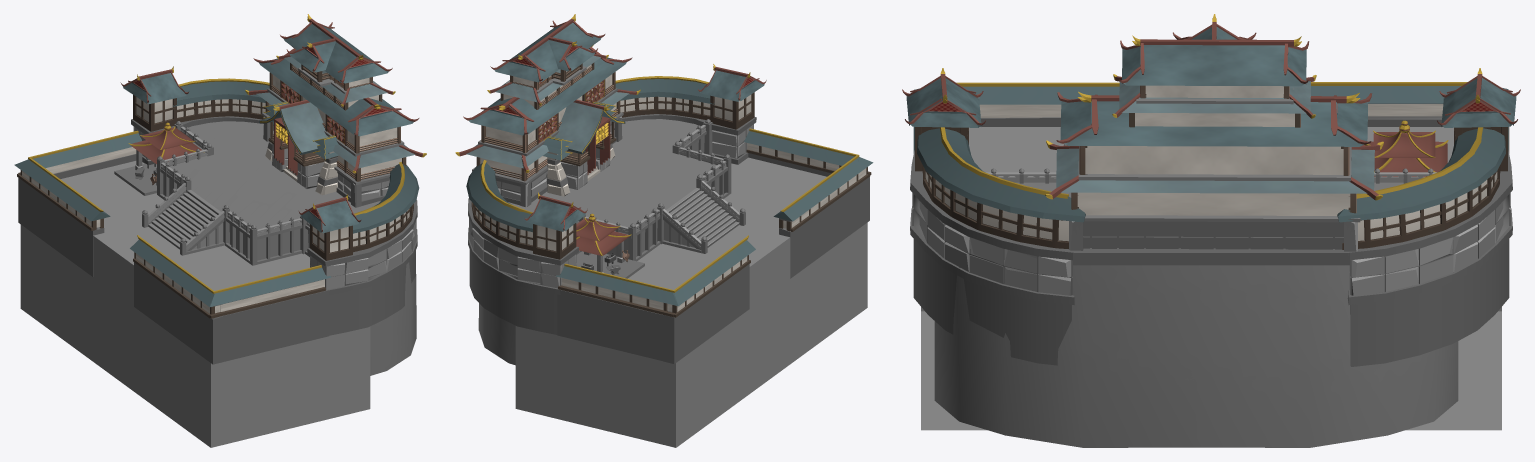
Rendered from main_3.fbx.
The picture shows the model from 3 angles, left to right: view 1: azimuth 30°, elevation 25°; view 2: azimuth 150°, elevation 25°; view 3: azimuth 270°, elevation 25°; orthographic projection. The views are drawn at different scales.
Parts seen in each view (by area): view 1: lvl_1, lvl_5, floor_high, lvl_2, floor_low, lvl_3_A, lvl_3_B, lvl_4_B, lvl_4_A, royal; view 2: lvl_1, lvl_5, floor_high, lvl_2, floor_low, lvl_3_B, lvl_3_A, lvl_4_A, lvl_4_B, royal; view 3: lvl_1, lvl_5, lvl_2, lvl_3_B, lvl_3_A, floor_low, lvl_4_B, lvl_4_A, royal.
Boxes of the visible parts, left/top/right/bottom form: lvl_1: left=18, top=116, right=417, bottom=447; lvl_5: left=253, top=14, right=419, bottom=153; floor_high: left=170, top=121, right=380, bottom=231; lvl_2: left=245, top=88, right=426, bottom=207; floor_low: left=60, top=161, right=309, bottom=290; lvl_3_A: left=120, top=66, right=269, bottom=131; lvl_3_B: left=298, top=162, right=419, bottom=260; lvl_4_B: left=130, top=235, right=331, bottom=318; lvl_4_A: left=14, top=130, right=141, bottom=230; royal: left=114, top=122, right=204, bottom=195; lvl_1: left=468, top=114, right=869, bottom=447; lvl_5: left=463, top=14, right=632, bottom=153; floor_high: left=508, top=119, right=716, bottom=229; lvl_2: left=455, top=88, right=640, bottom=207; floor_low: left=628, top=157, right=826, bottom=289; lvl_3_B: left=615, top=64, right=766, bottom=129; lvl_3_A: left=466, top=160, right=587, bottom=259; lvl_4_A: left=556, top=235, right=755, bottom=317; lvl_4_B: left=744, top=128, right=873, bottom=231; royal: left=576, top=213, right=644, bottom=278; lvl_1: left=910, top=116, right=1512, bottom=447; lvl_5: left=1056, top=14, right=1372, bottom=175; lvl_2: left=1045, top=140, right=1383, bottom=251; lvl_3_B: left=902, top=68, right=1085, bottom=248; lvl_3_A: left=1337, top=68, right=1520, bottom=249; floor_low: left=969, top=127, right=1453, bottom=176; lvl_4_B: left=913, top=82, right=1119, bottom=153; lvl_4_A: left=1311, top=82, right=1509, bottom=153; royal: left=1362, top=120, right=1448, bottom=176.
Size of the model in its own units: 27.68 by 29.01 by 36.91.
